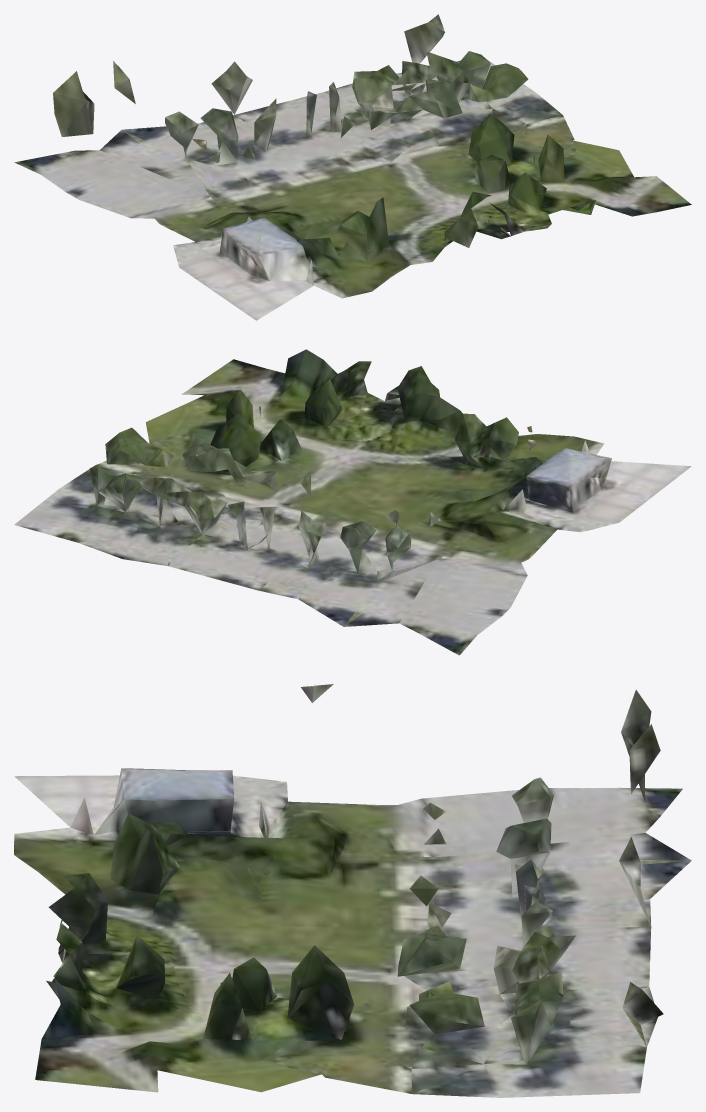
Rendered from Tile_+004_+000_L17_00.glb.
3 views of the same model, one above another, from view 1: azimuth 30°, elevation 25°; view 2: azimuth 150°, elevation 25°; view 3: azimuth 270°, elevation 25° (orthographic). The views are drawn at different scales.
Parts seen in each view (by area): view 1: rtc; view 2: rtc; view 3: rtc.
Part boxes in pixels (<box>): rtc: <box>14,14,691,320</box>; rtc: <box>14,349,691,655</box>; rtc: <box>14,684,691,1097</box>.
Bounding box in the file's own units: 61.01 × 12.98 × 55.02.
Materials: 1 (1 with a texture image).
